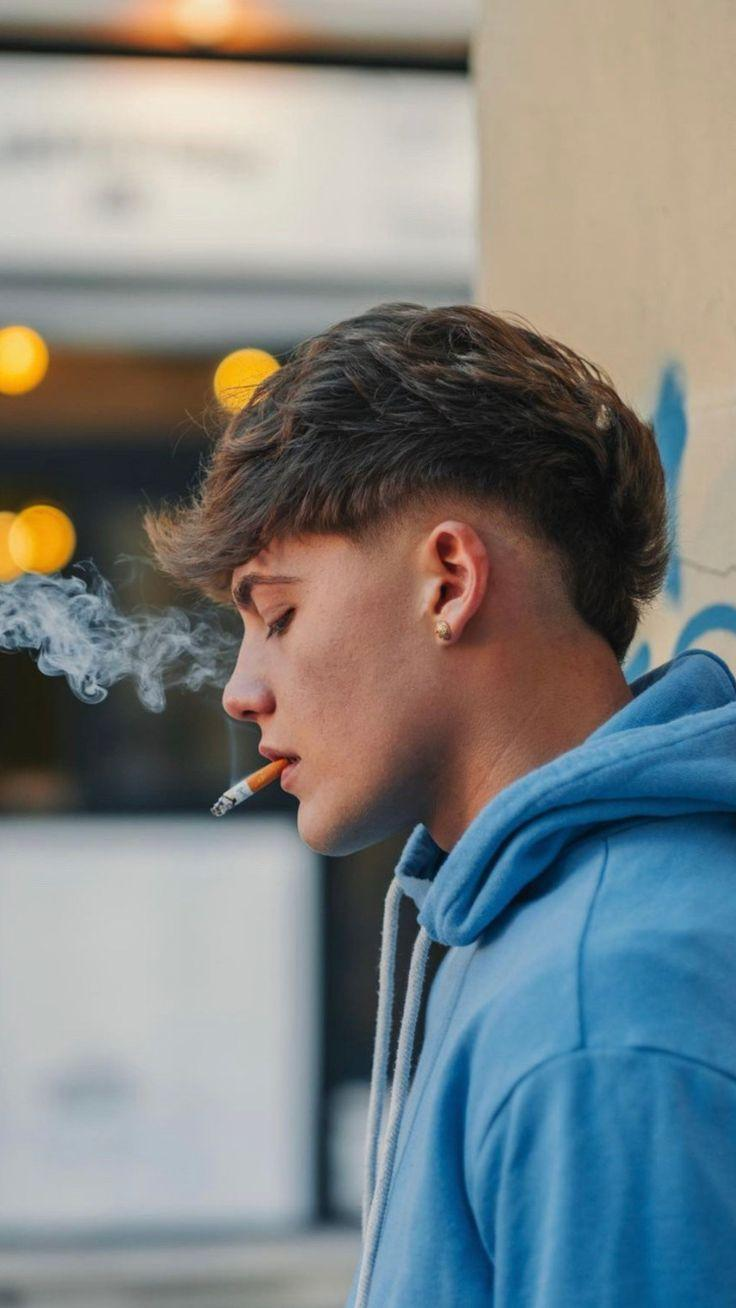cigarette: (211, 757, 292, 819)
